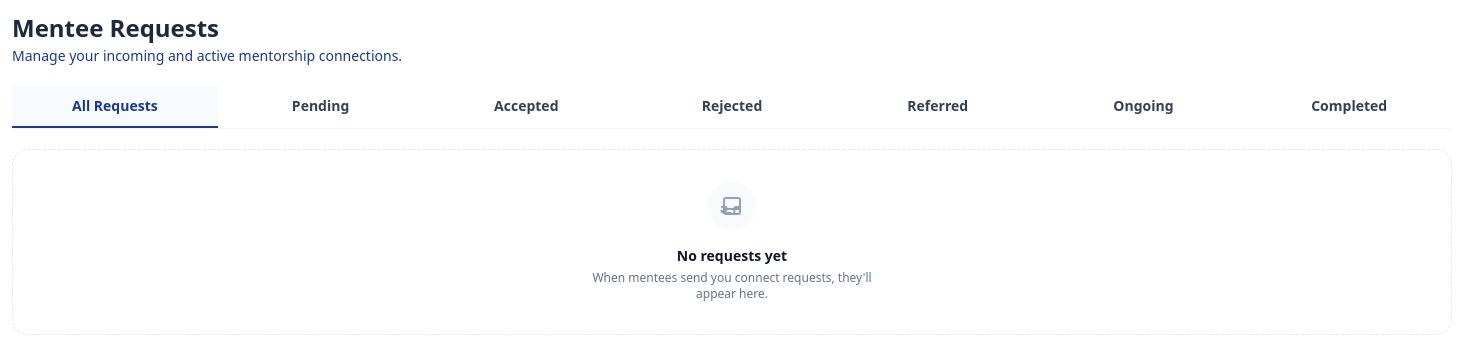
Test: RequestsTab Component › covers referred tab empty state message (getEmptyStateMessage fallback)
The width and height of the screenshot is (1464, 352).
// Click referred tab
What coordinates should you click on to do the following:
click the button "Referred"
I would click on:
 (938, 107)
Its box is [835,86,1041,128].
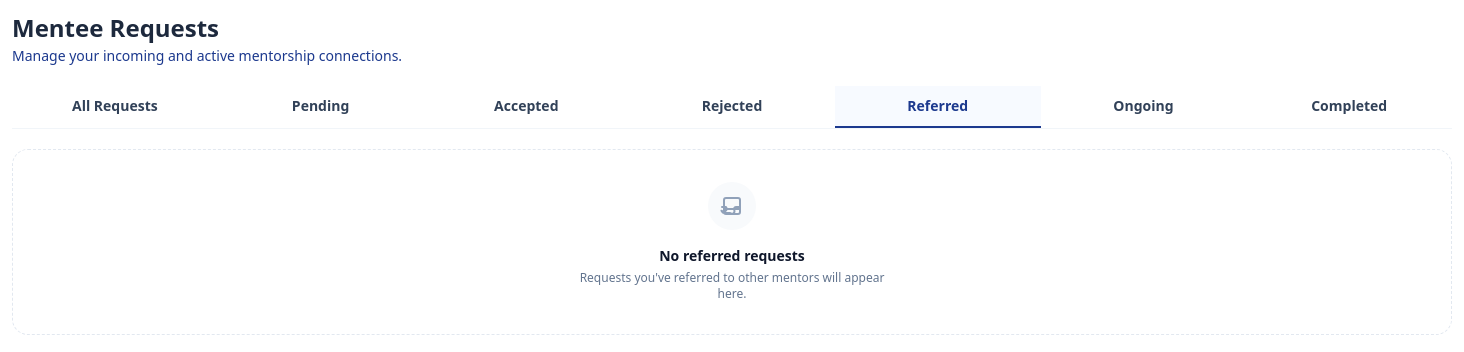
Expected: the heading "No referred requests" is shown, [659,246,805,266]
Expected: the text "Requests you've referred to other mentors will appear here." is shown, [572,270,892,302]
